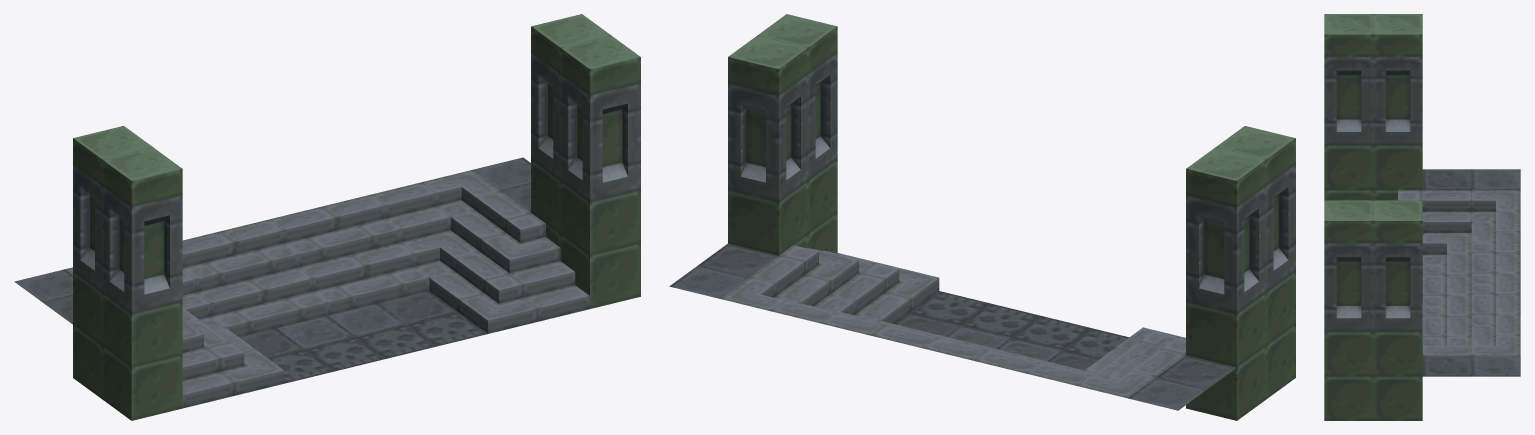
File: floor_element_7_green.fbx
The picture shows the model from 3 angles, left to right: view 1: azimuth 30°, elevation 25°; view 2: azimuth 150°, elevation 25°; view 3: azimuth 270°, elevation 25°; orthographic projection. The views are drawn at different scales.
Parts seen in each view (by area): view 1: floor_element_7_green; view 2: floor_element_7_green; view 3: floor_element_7_green.
Part boxes in pixels (bbox=[...]): floor_element_7_green: bbox=[14, 14, 640, 420]; floor_element_7_green: bbox=[669, 14, 1295, 420]; floor_element_7_green: bbox=[1324, 14, 1520, 420].
Bounding box in the file's own units: 160 × 72 × 64.
